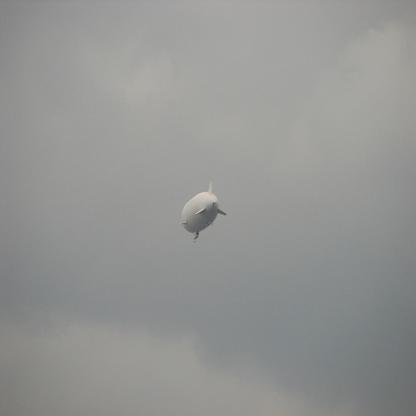Airship: (176, 180, 229, 244)
